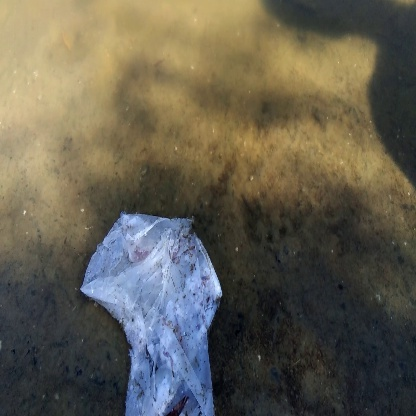plastic-bag: (81, 209, 230, 415)
